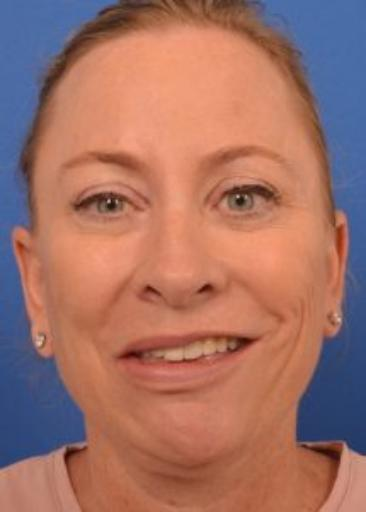left_eye: (208, 185, 278, 219)
left_lip_corner: (251, 332, 269, 348)
right_eye: (75, 191, 146, 221)
right_lip_corner: (107, 348, 129, 368)
